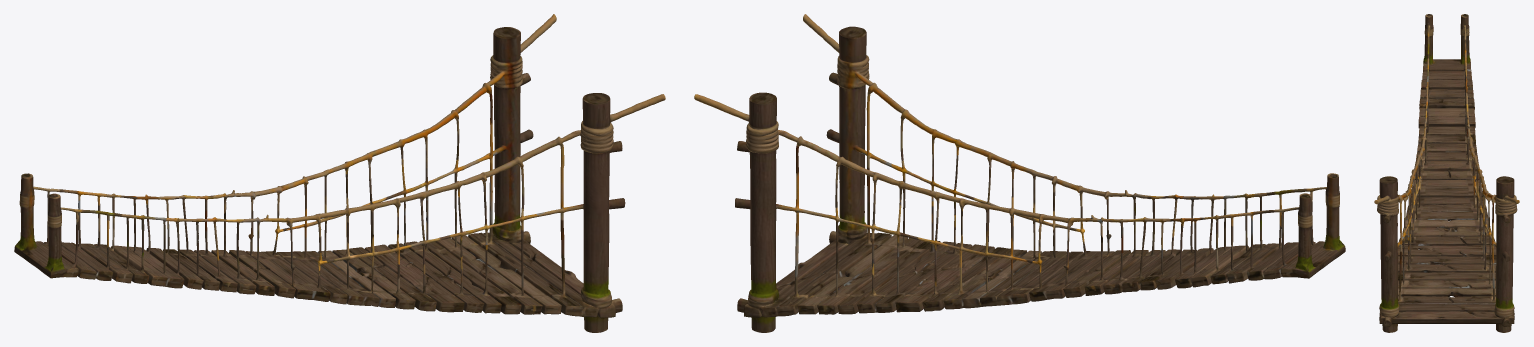
Rendered from puente.fbx.
The picture shows the model from 3 angles, left to right: view 1: azimuth 30°, elevation 25°; view 2: azimuth 150°, elevation 25°; view 3: azimuth 270°, elevation 25°; orthographic projection. The views are drawn at different scales.
Visible parts, largest first — view 1: tripo_node_aa754997; view 2: tripo_node_aa754997; view 3: tripo_node_aa754997.
Part boxes in pixels (left/top/right/bottom): tripo_node_aa754997: left=14, top=14, right=665, bottom=332; tripo_node_aa754997: left=694, top=14, right=1345, bottom=332; tripo_node_aa754997: left=1374, top=14, right=1519, bottom=332.
Size of the model in its own units: 1 by 0.3889 by 0.3364.
1 material, 1 textured.
